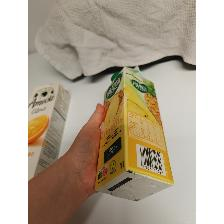Saft: (93, 65, 175, 203)
